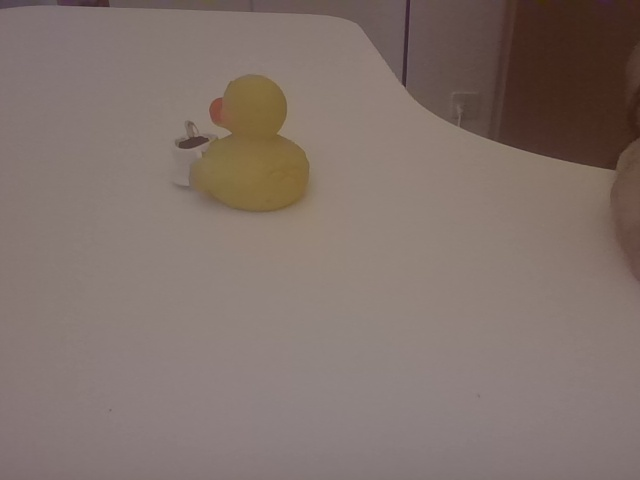duck: (166, 66, 319, 218)
